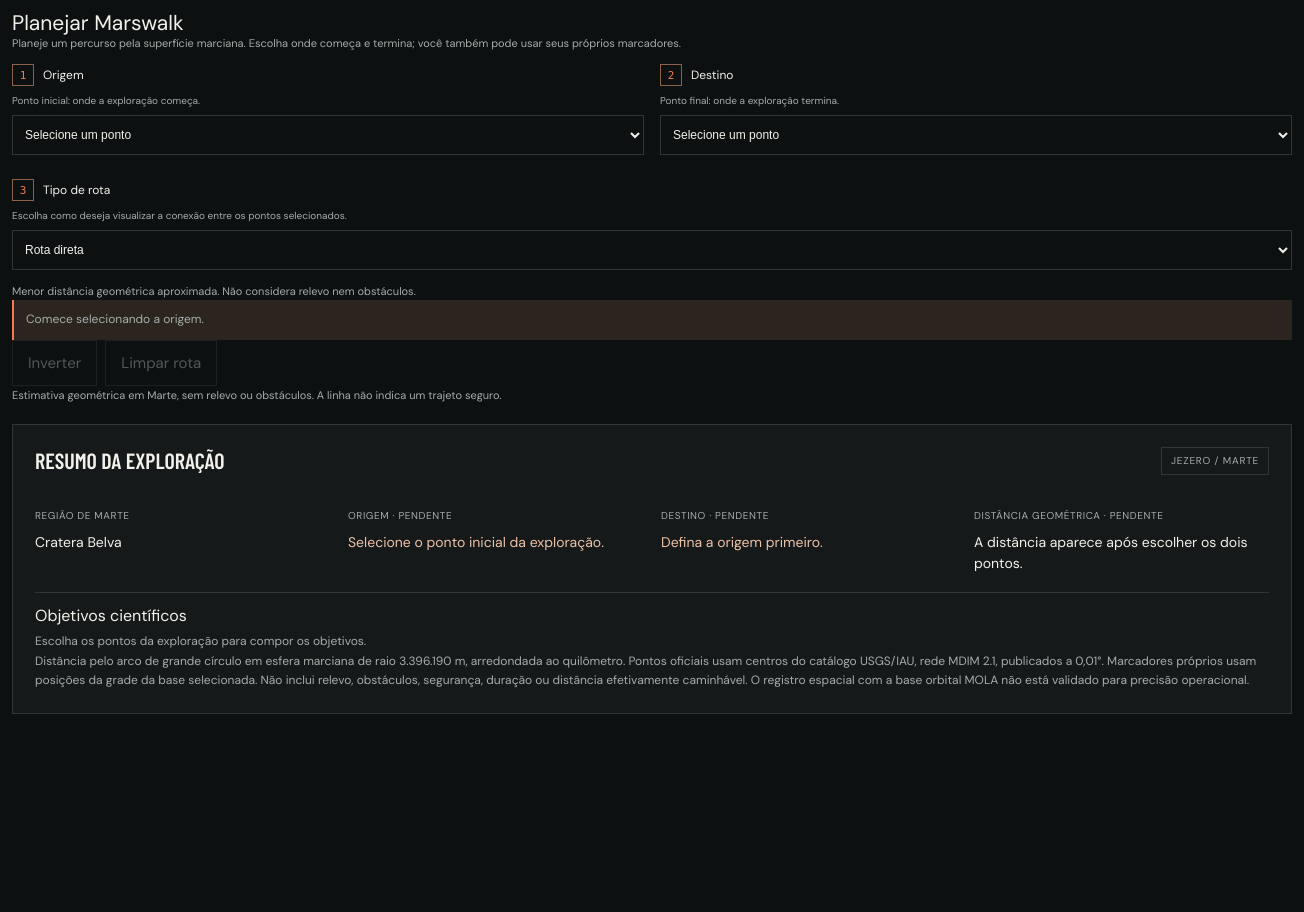
it: Marswalk controls › selects endpoints, calculates a summary, swaps and clears
Select "Cratera Belva" in the dropdown labelled "Origem" at (328, 135), box [12, 115, 644, 155]
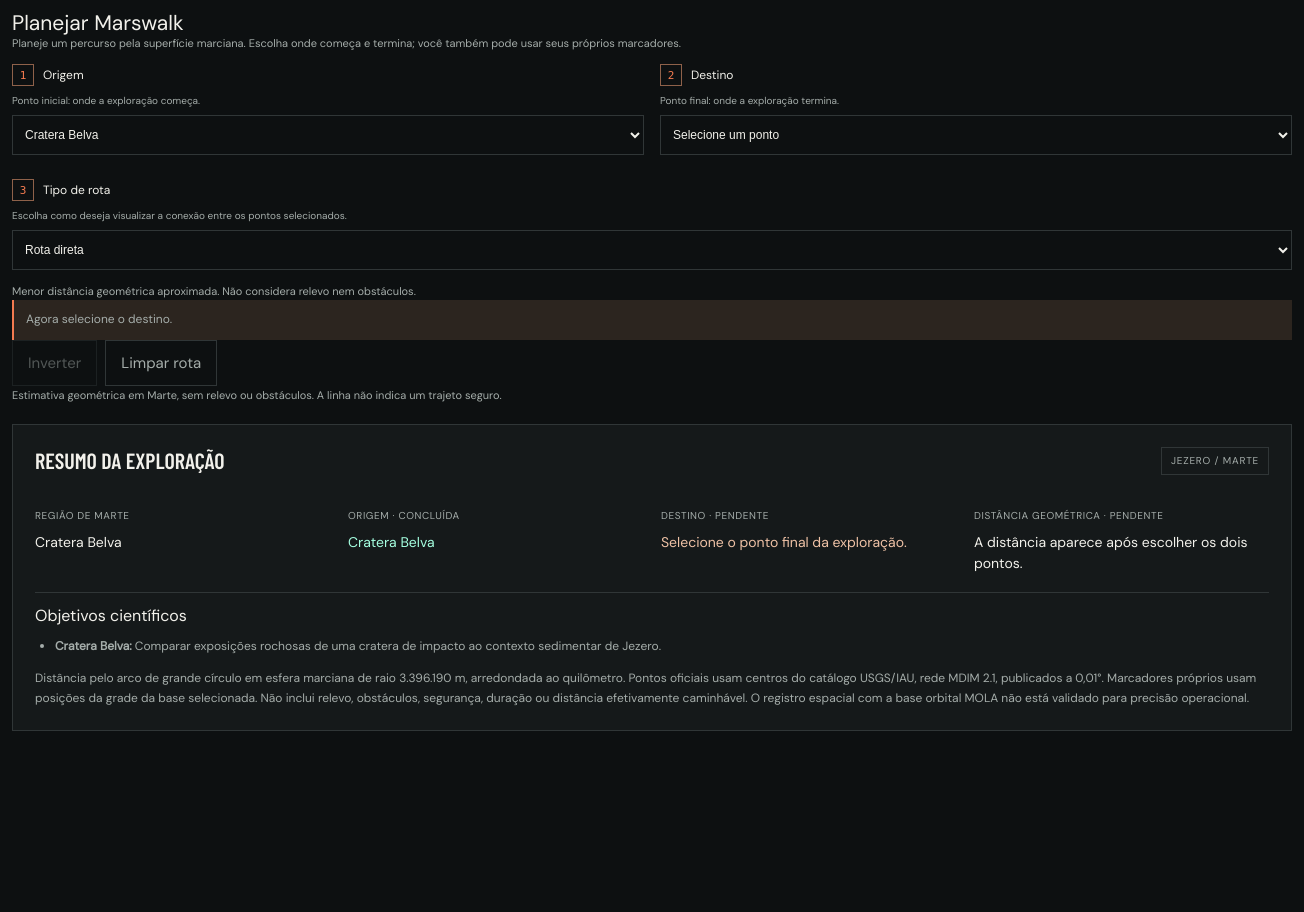
Select "Neretva Vallis" in the dropdown labelled "Destino" at (976, 135), box [660, 115, 1292, 155]
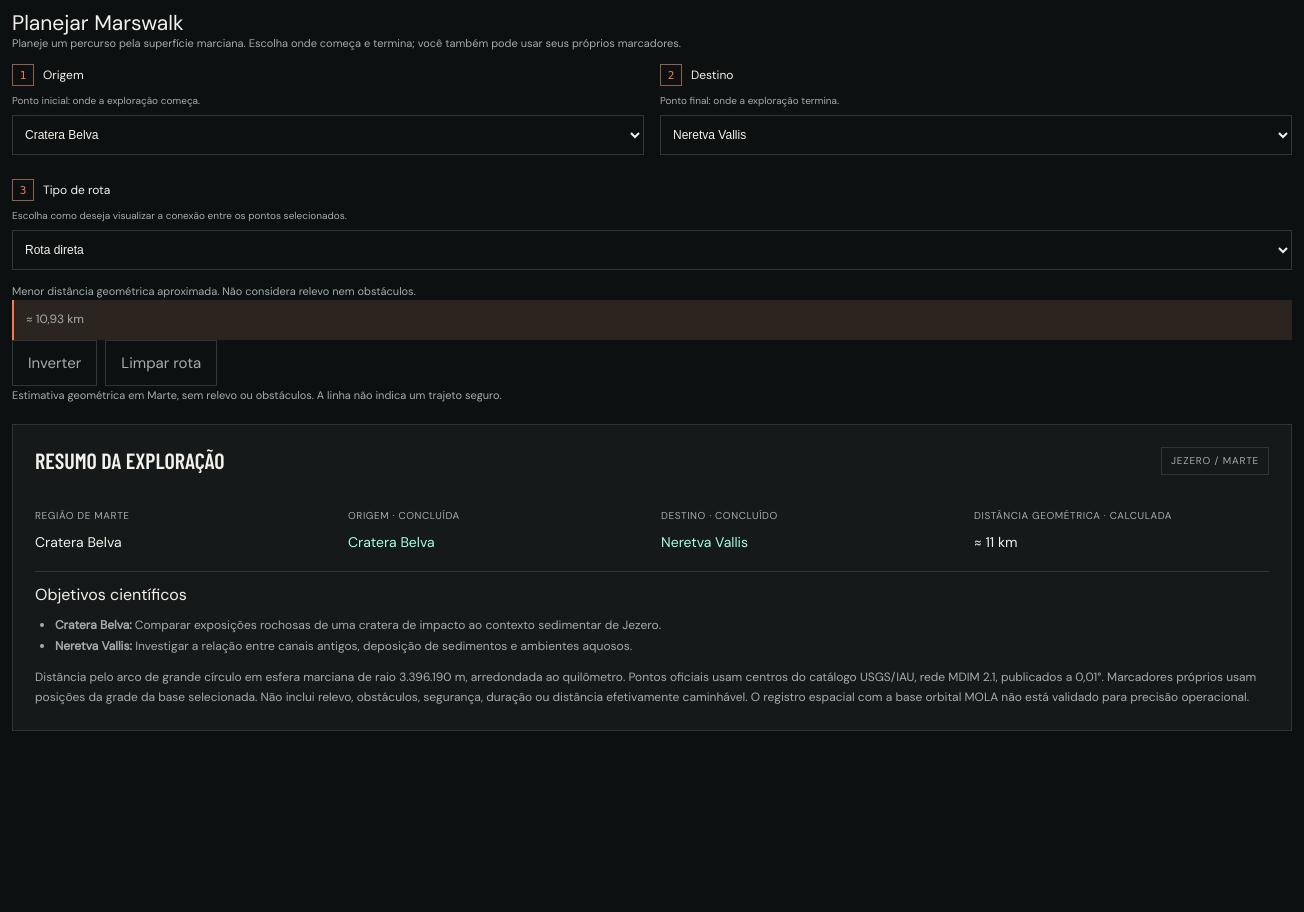
Check: the text "≈ 11 km" is shown, box [974, 533, 1017, 551]
Check: the list item "Investigar a relação entre canais antigos, deposição de sedimentos e ambientes aquosos." is shown, box [135, 638, 632, 654]
Click the button "Inverter" at (55, 362), box [12, 340, 97, 386]
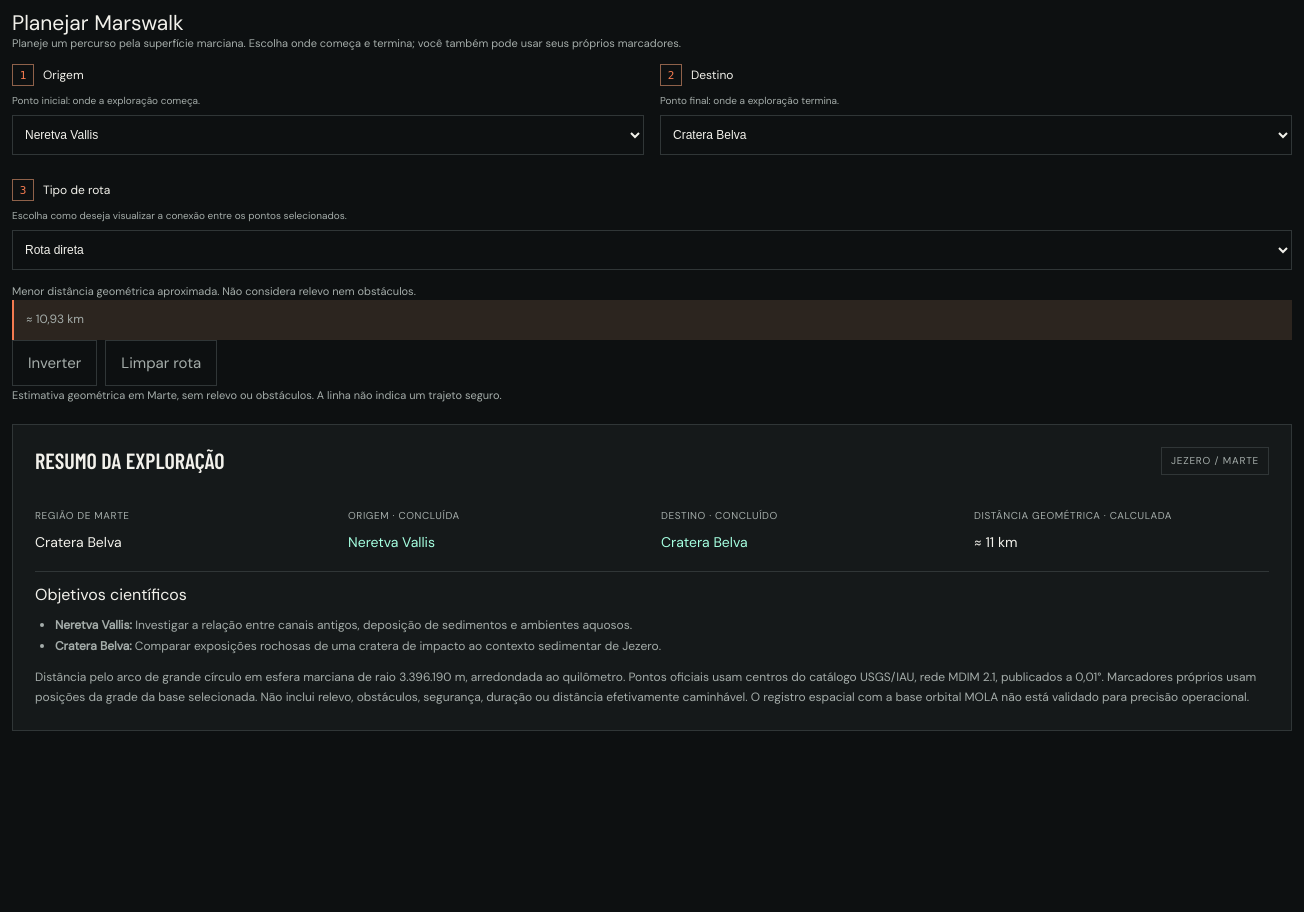
Click the button "Limpar rota" at (161, 362), box [105, 340, 217, 386]
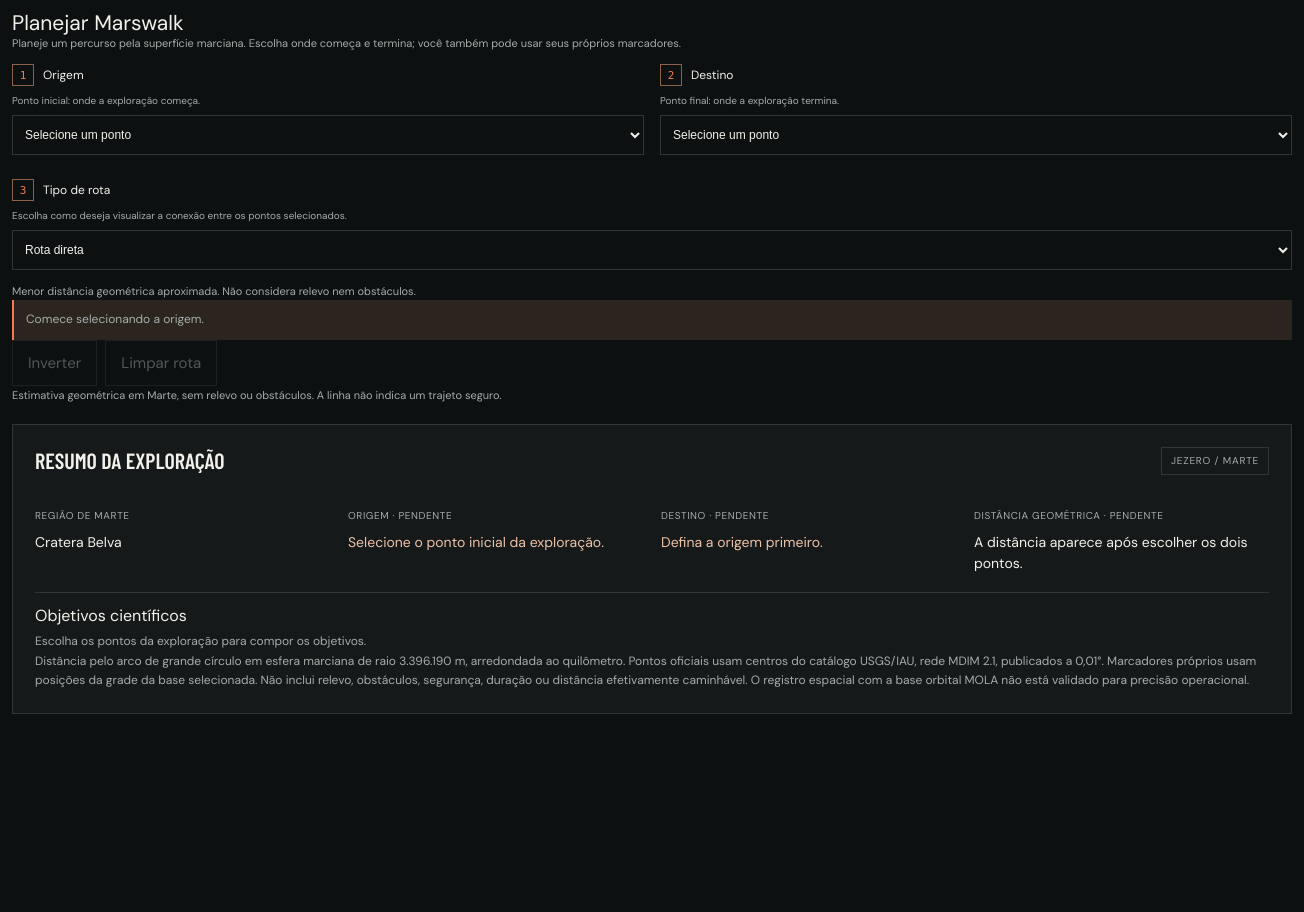
Check: the text "≈ 11 km" is gone
